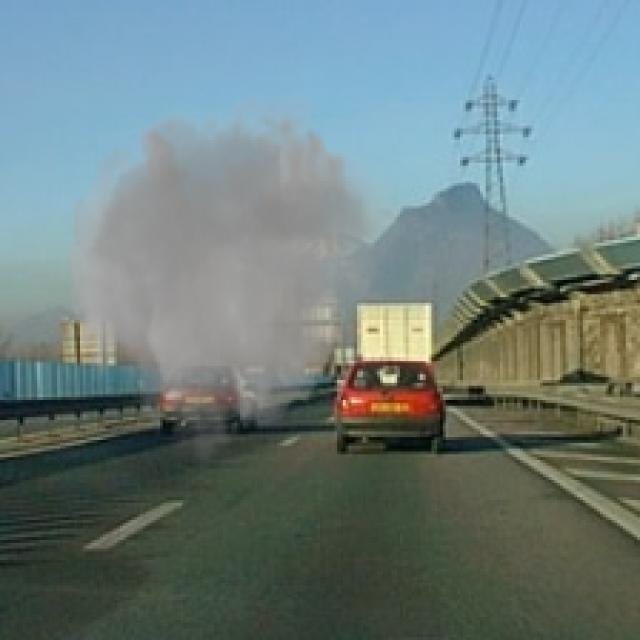Smoke: (60, 77, 403, 474)
